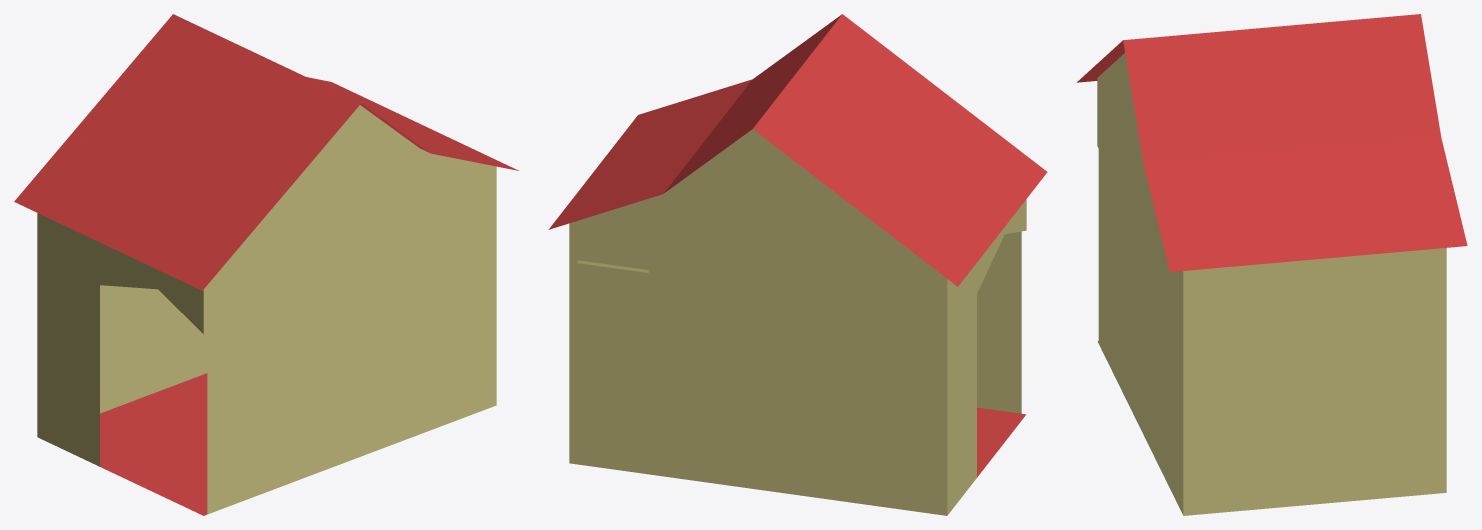
3 views of the same model, side by side, from view 1: azimuth 30°, elevation 25°; view 2: azimuth 150°, elevation 25°; view 3: azimuth 270°, elevation 25° (orthographic). The views are drawn at different scales.
Bounding box in the file's own units: 14.37 × 11.02 × 12.12.
